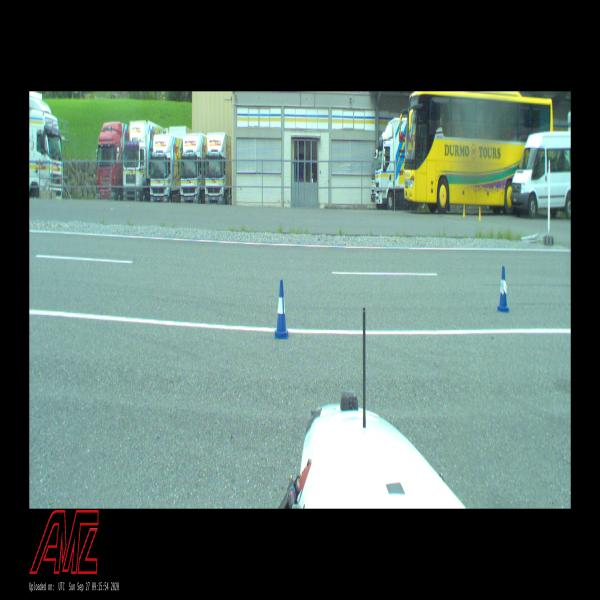blue_cone: (274, 280, 288, 339), (497, 266, 509, 312)
